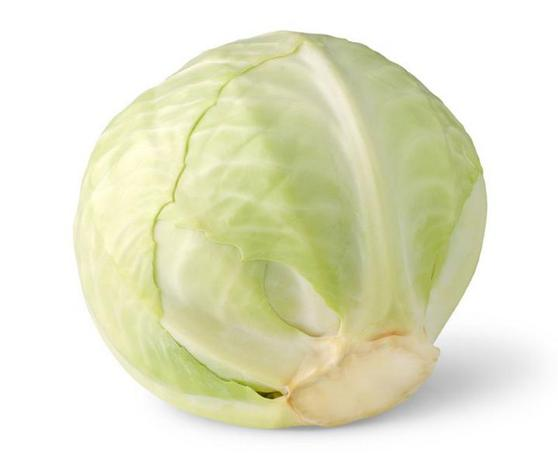cabbage: (77, 28, 490, 423)
